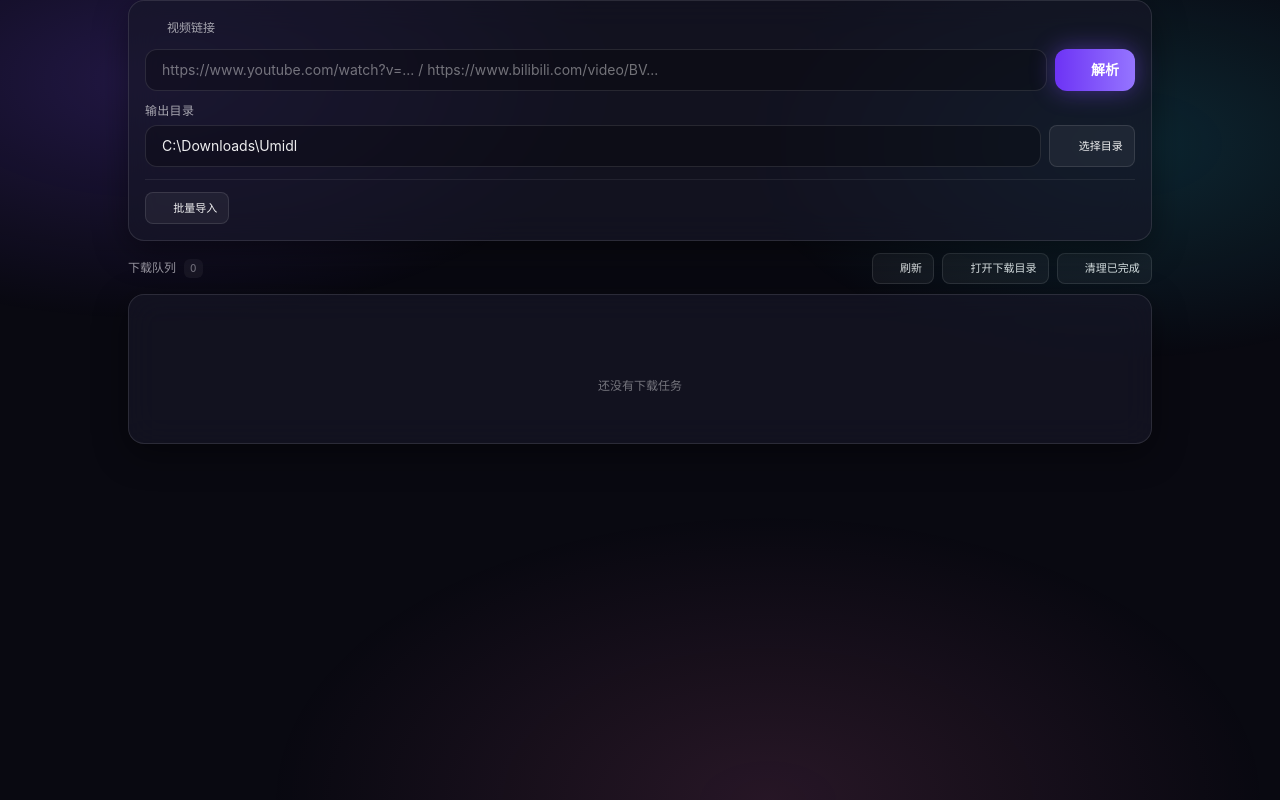
Download request ownership › keeps the newer URL result when an older probe finishes last
Replace the text in the field with test id "link-input" with "https://example.com/a" at (596, 70), box [145, 49, 1047, 91]
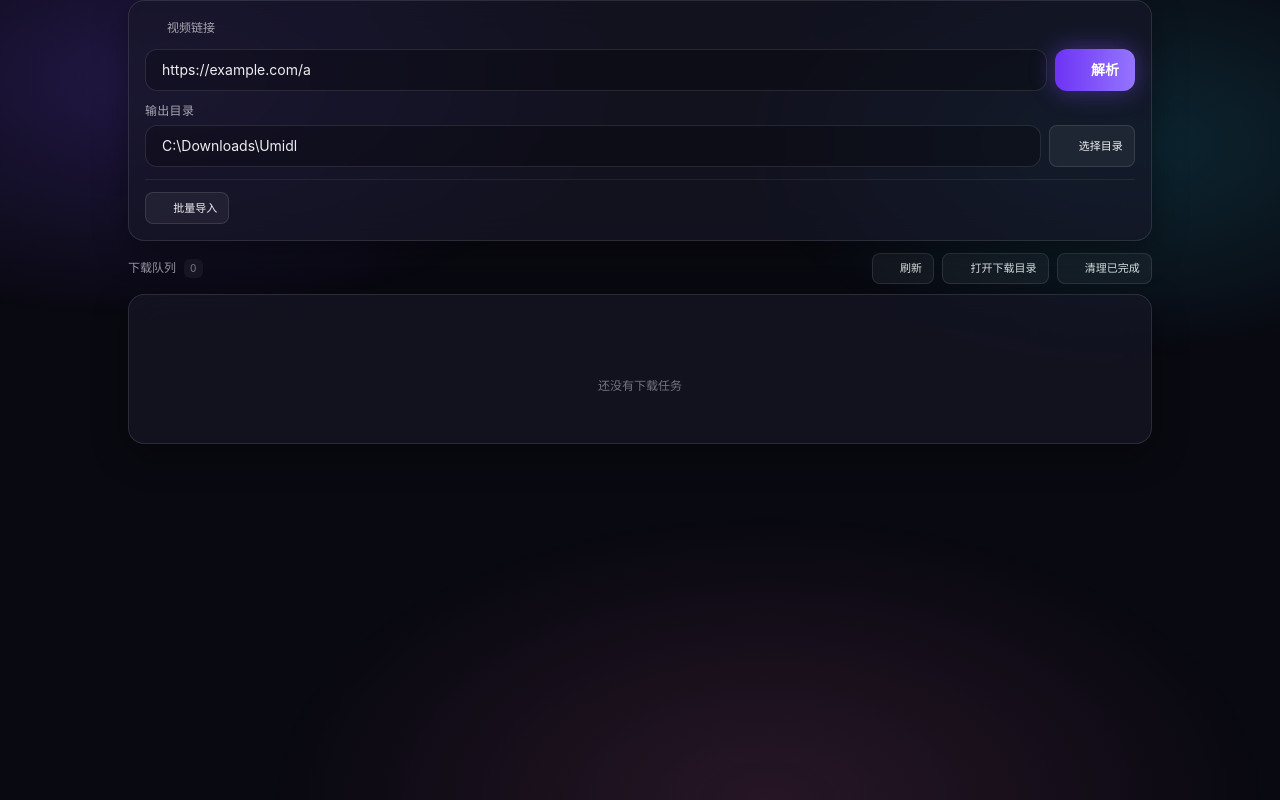
Click the button with test id "link-primary" at (1095, 70), box [1055, 49, 1135, 91]
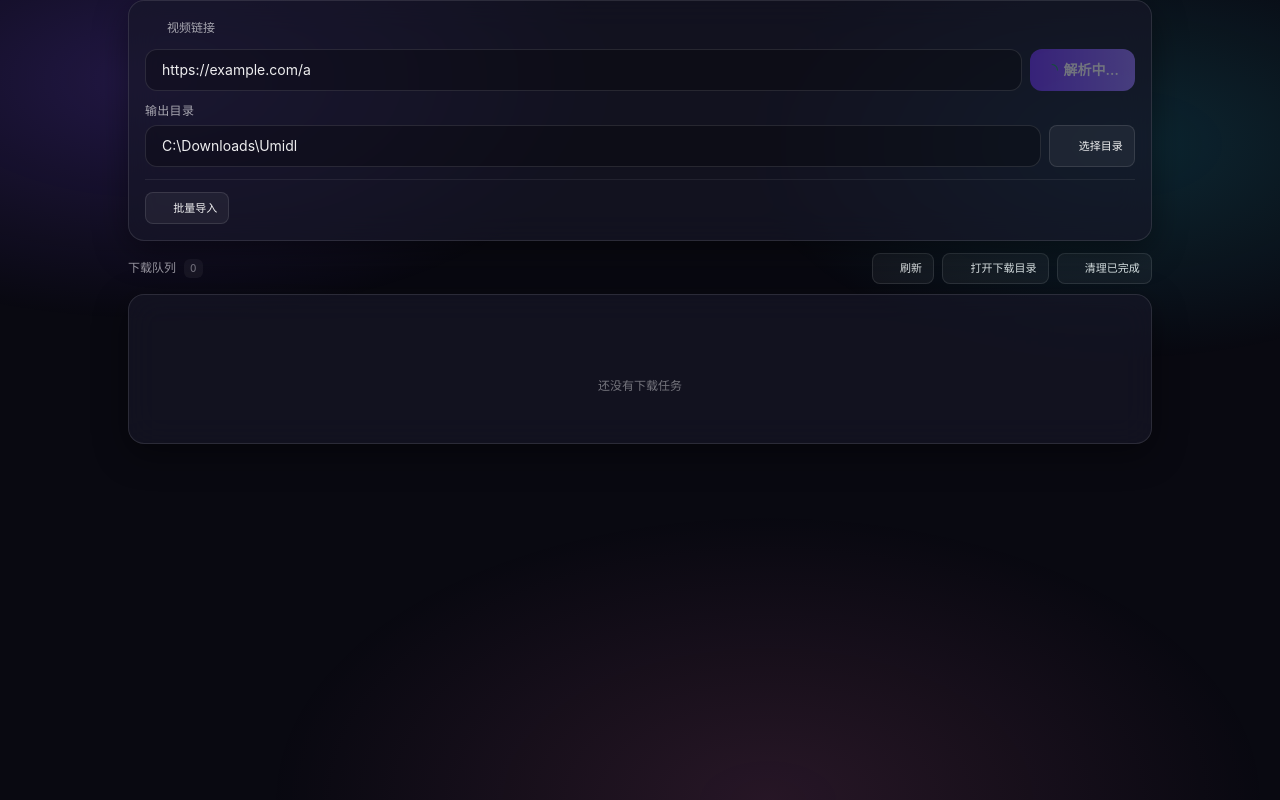
Replace the text in the field with test id "link-input" with "https://example.com/b" at (583, 70), box [145, 49, 1022, 91]
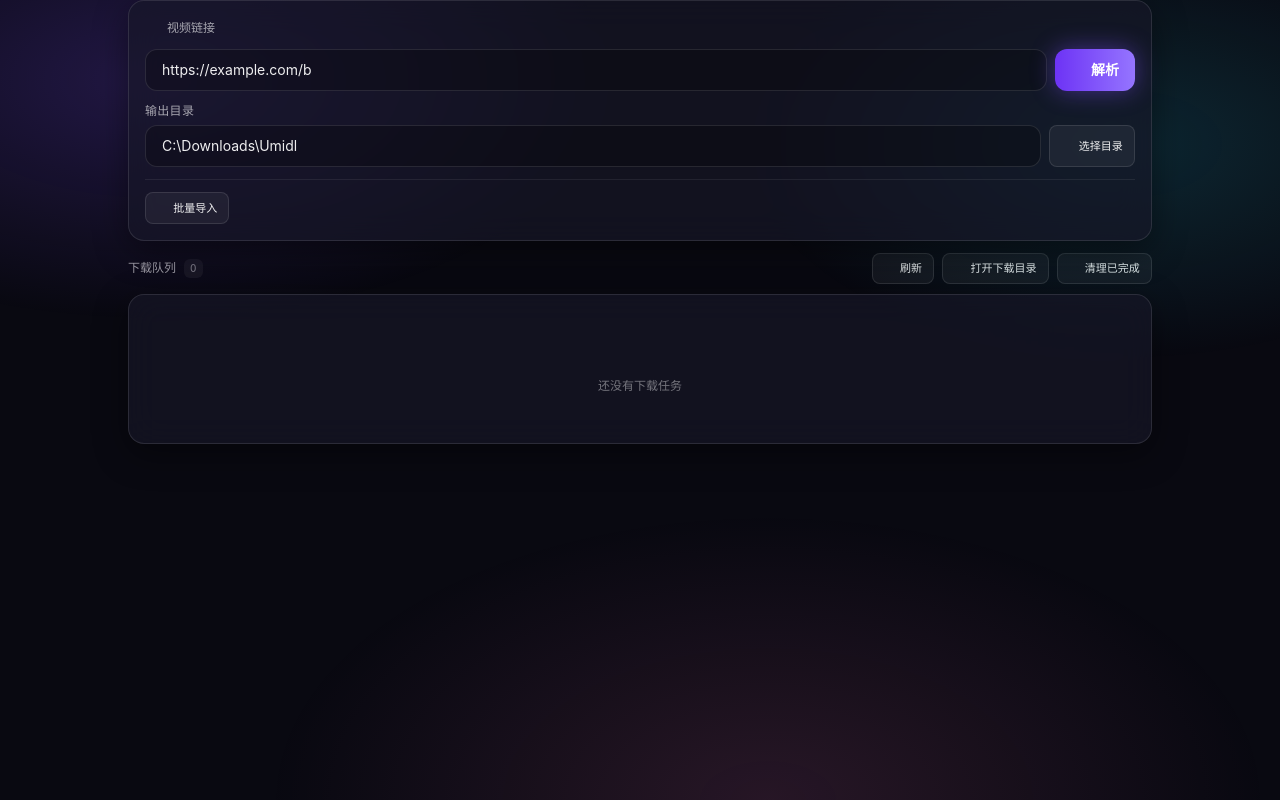
Expected: the button with test id "link-primary" is enabled
Click the button with test id "link-primary" at (1095, 70), box [1055, 49, 1135, 91]
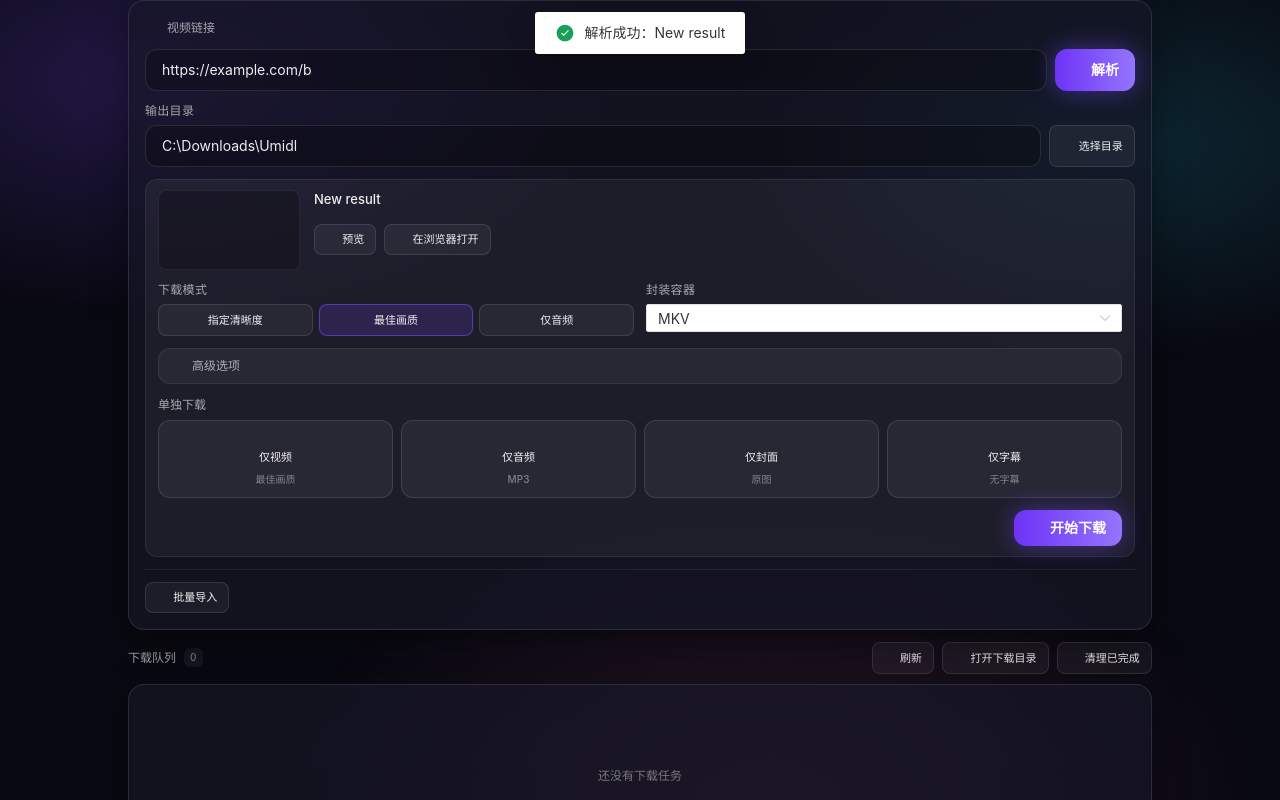
Expected: the element with test id "probe-result" shows "New result", [314, 191, 381, 207]
